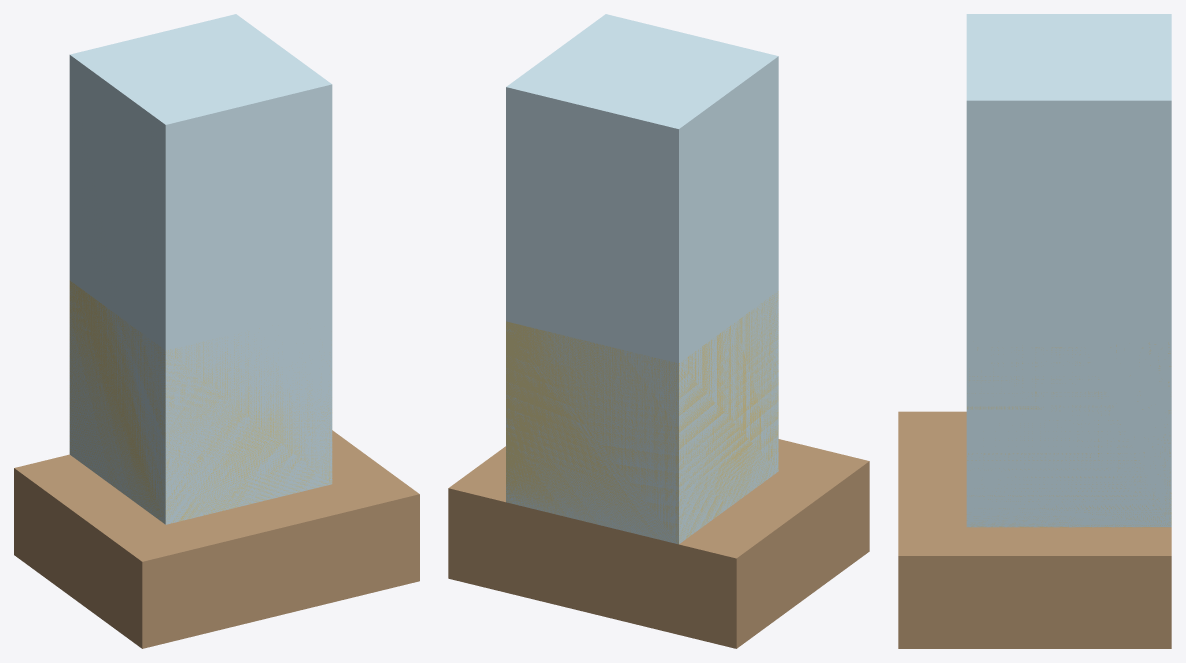
The model's file is Prop_Pet_AMF_Feeder_V8.glb.
3 views of the same model, side by side, from view 1: azimuth 30°, elevation 25°; view 2: azimuth 150°, elevation 25°; view 3: azimuth 270°, elevation 25° (orthographic). The views are drawn at different scales.
Visible parts, largest first — view 1: Prop_Pet_AMF_Feeder_V8; view 2: Prop_Pet_AMF_Feeder_V8; view 3: Prop_Pet_AMF_Feeder_V8.
Boxes of the visible parts, x1,y1,x2,y2 form: Prop_Pet_AMF_Feeder_V8: (14,14,419,648); Prop_Pet_AMF_Feeder_V8: (448,14,869,648); Prop_Pet_AMF_Feeder_V8: (898,14,1171,648).
Size of the model in its own units: 0.5 by 0.8385 by 0.4.
